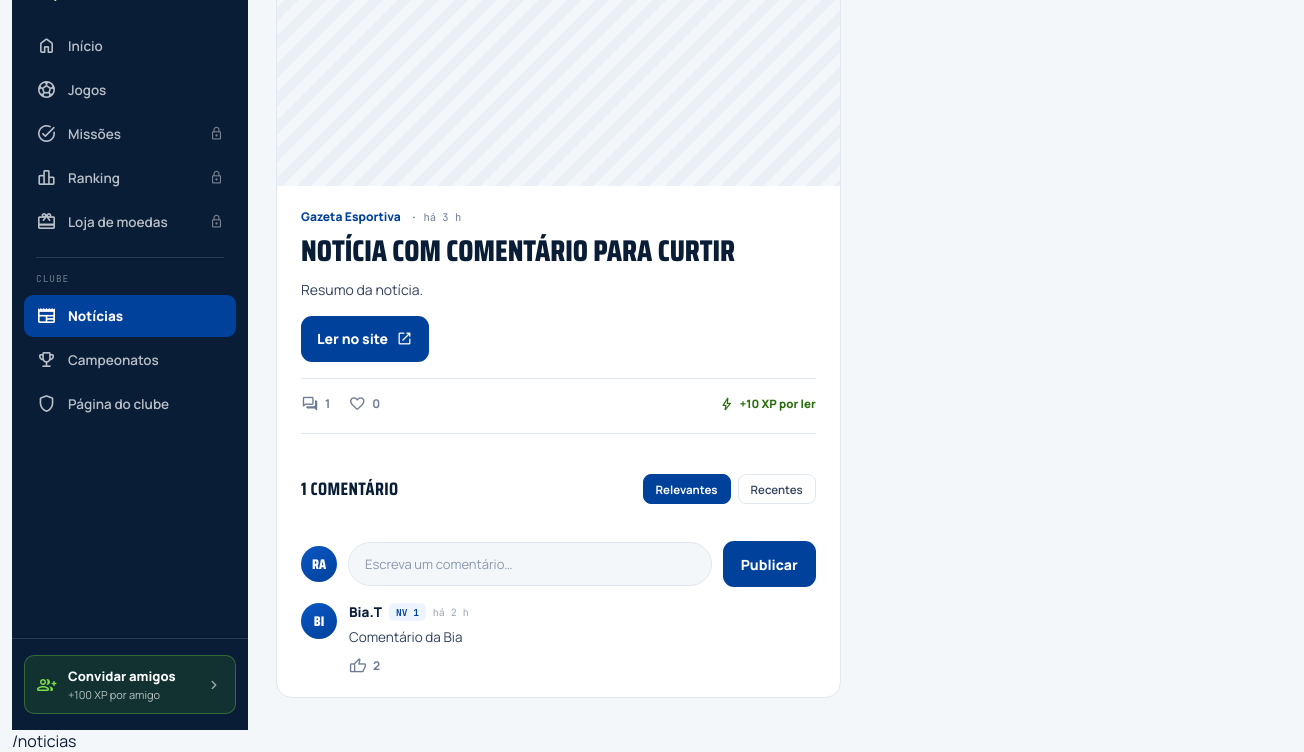
notícias do clube (W09) › curte o comentário de outro torcedor
(page scrolled)
Click the button named "Curtir o comentário de Bia.T" at (365,666), box [349, 657, 380, 675]
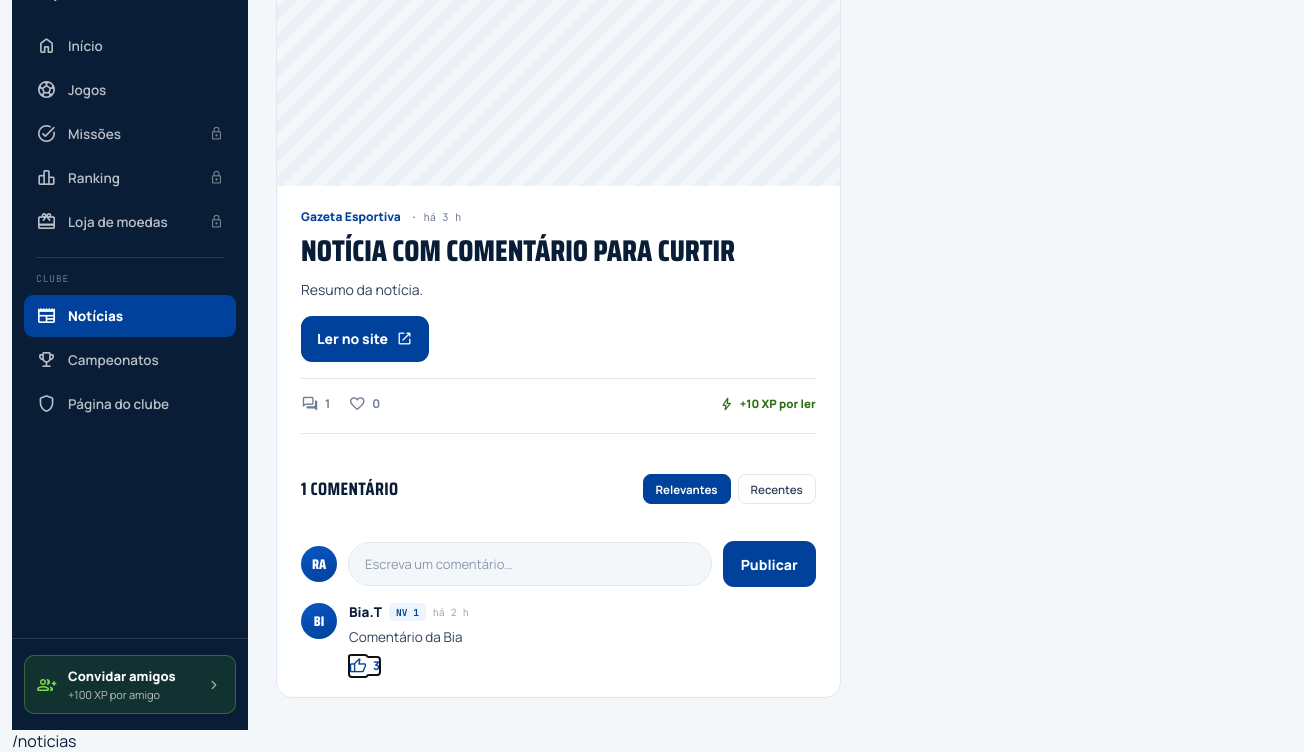
Result: the button named "Curtir o comentário de Bia.T" reads "3" at [349, 657, 380, 675]
